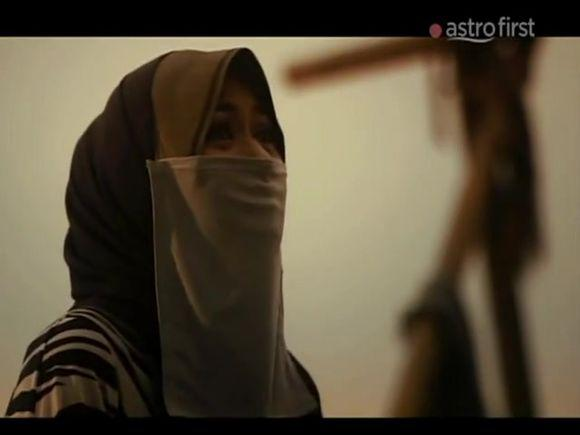WRONG: (178, 107, 294, 223)
